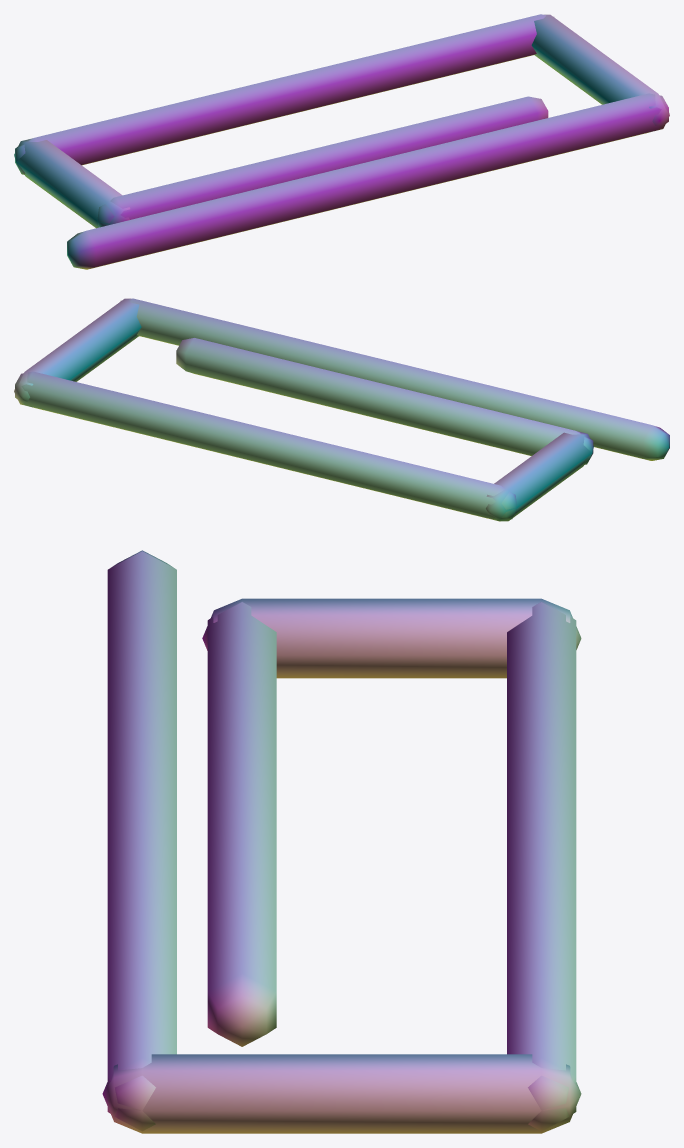
File: env_deco_clip.glb
3 views of the same model, one above another, from view 1: azimuth 30°, elevation 25°; view 2: azimuth 150°, elevation 25°; view 3: azimuth 270°, elevation 25° (orthographic). The views are drawn at different scales.
Visible parts, largest first — view 1: env_deco_clip_mesh; view 2: env_deco_clip_mesh; view 3: env_deco_clip_mesh.
Part boxes in pixels (x1,y1,x2,y2): env_deco_clip_mesh: (14,14,669,269); env_deco_clip_mesh: (14,298,669,521); env_deco_clip_mesh: (102,550,581,1133).
Bounding box in the file's own units: 0.32 × 0.02 × 0.12.
